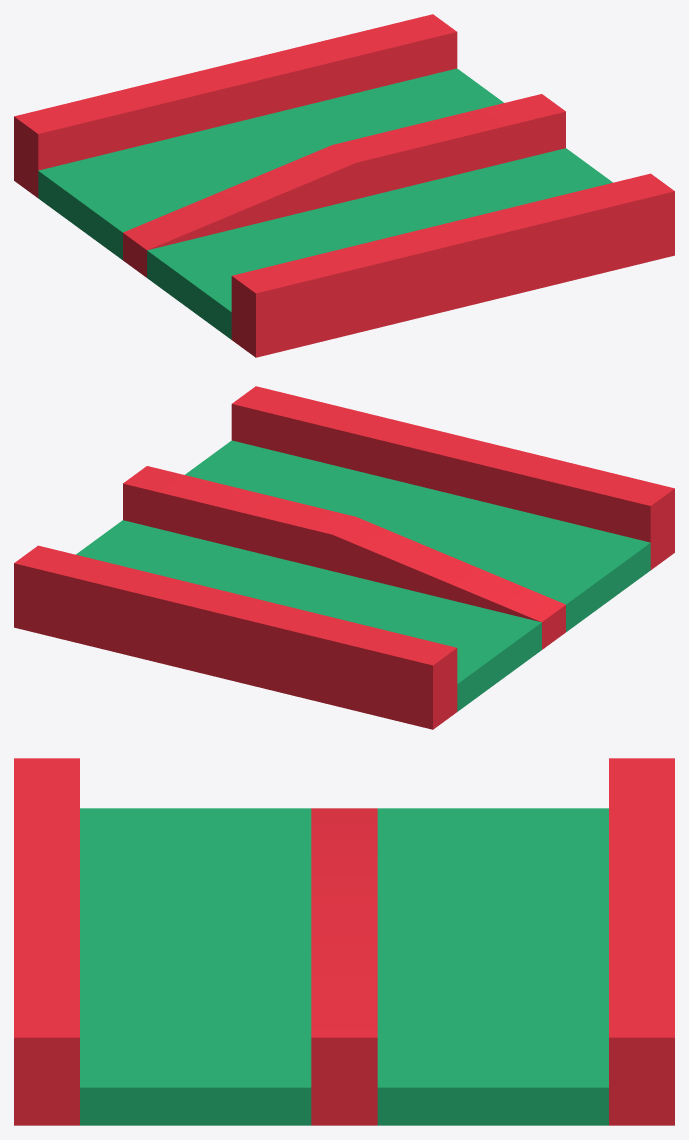
Rendered from splitStart.obj.
The picture shows the model from 3 angles, top to bottom: view 1: azimuth 30°, elevation 25°; view 2: azimuth 150°, elevation 25°; view 3: azimuth 270°, elevation 25°; orthographic projection. The views are drawn at different scales.
Parts seen in each view (by area): view 1: splitStart; view 2: splitStart; view 3: splitStart.
Boxes of the visible parts, x1,y1,x2,y2 form: splitStart: [14, 14, 674, 357]; splitStart: [14, 386, 674, 729]; splitStart: [14, 758, 674, 1125].
Size of the model in its own units: 0.9999 by 0.1467 by 0.9999.
